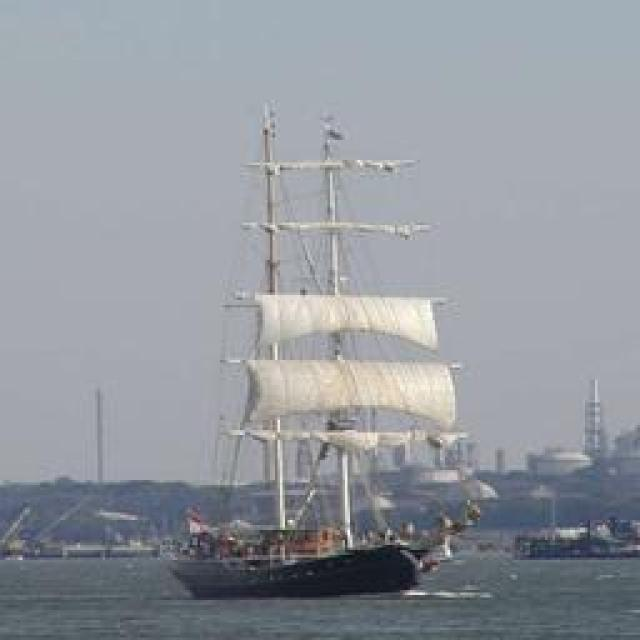ship: (170, 538, 420, 600)
